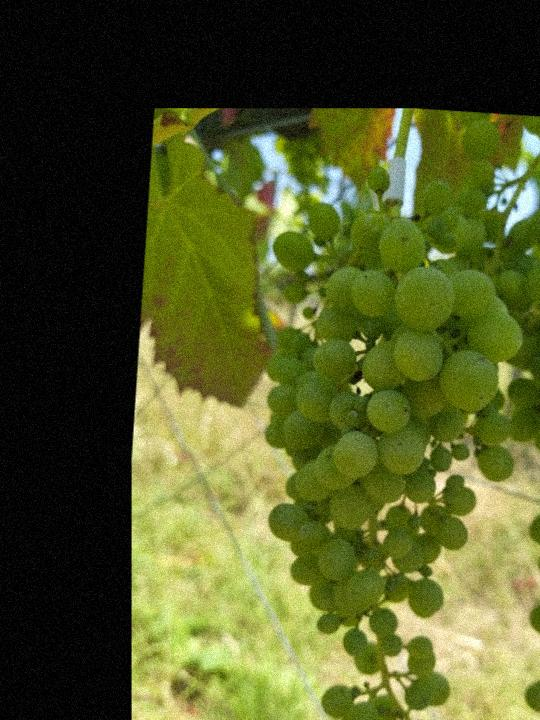grape: (237, 158, 540, 720)
